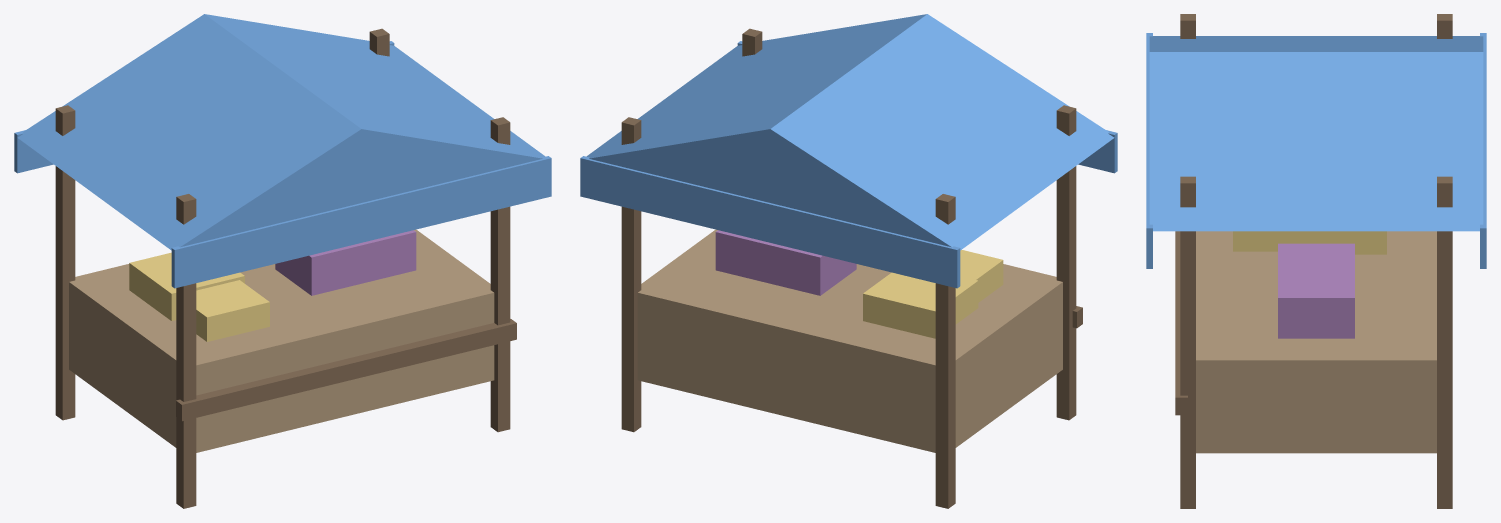
Rendered from market_stall_blue_white.glb.
3 renders of one model, left to right at view 1: azimuth 30°, elevation 25°; view 2: azimuth 150°, elevation 25°; view 3: azimuth 270°, elevation 25°, orthographic. The views are drawn at different scales.
Visible parts, largest first — view 1: MarketStall_blue_white; view 2: MarketStall_blue_white; view 3: MarketStall_blue_white.
Part boxes in pixels (x1=…): MarketStall_blue_white: x1=14, y1=14, x2=551, y2=508; MarketStall_blue_white: x1=580, y1=14, x2=1117, y2=508; MarketStall_blue_white: x1=1146, y1=14, x2=1486, y2=508.
Bounding box in the file's own units: 3.6 × 3.2 × 2.65.
